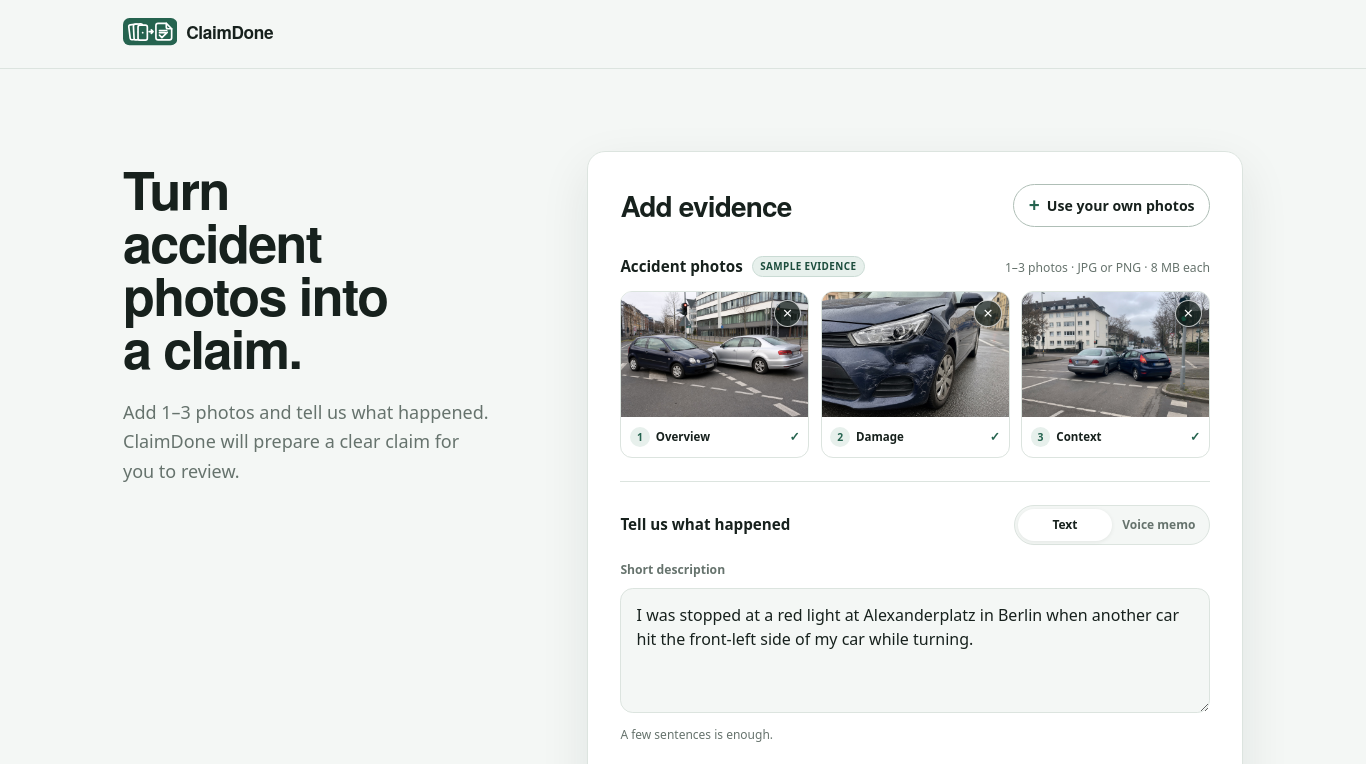
Scenario: ClaimExperience › shows a clear analysis error and preserves the evidence
Replace the text in the text box labelled "Short description" with "My saved description in Berlin.". click: (915, 651)
box: [620,588,1210,713]
(page scrolled)
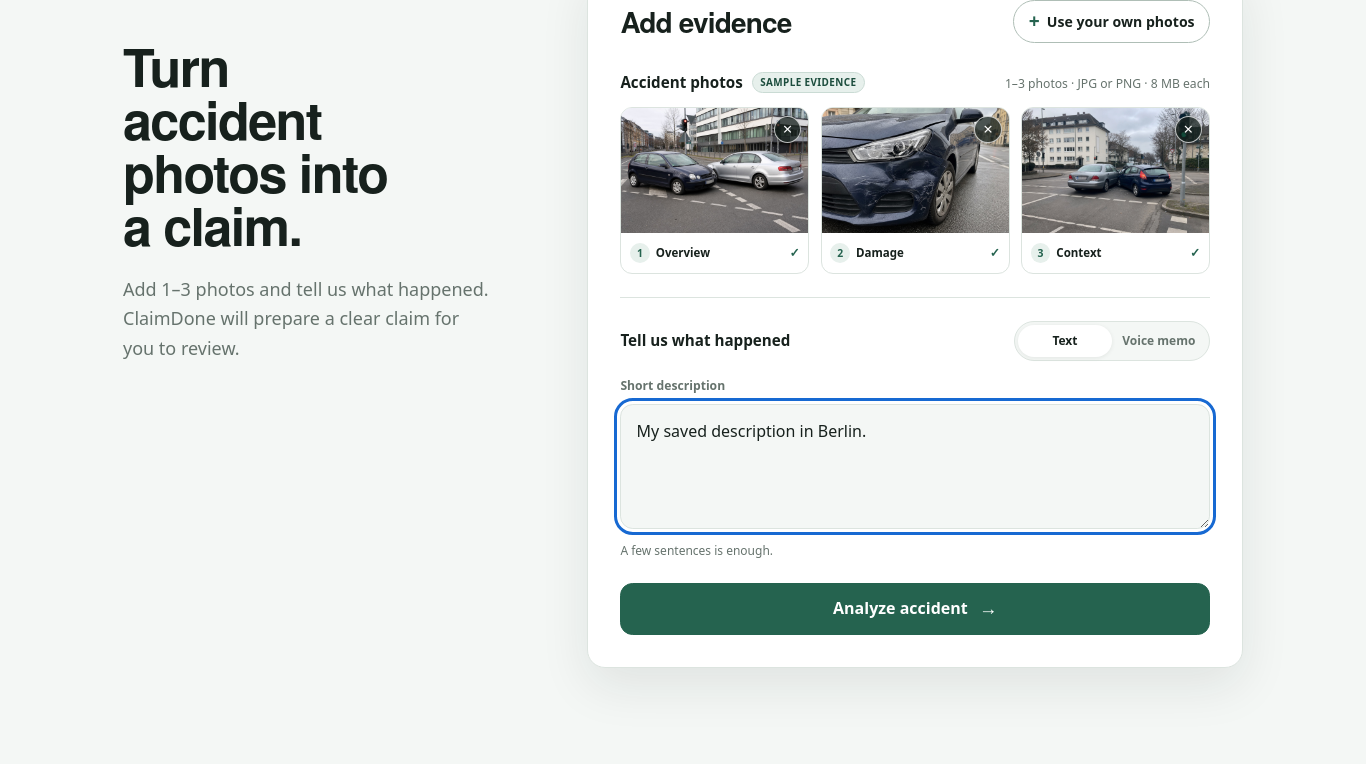
Click the button "Analyze accident →". click: (915, 608)
box: [620,582,1210,634]
(page scrolled)
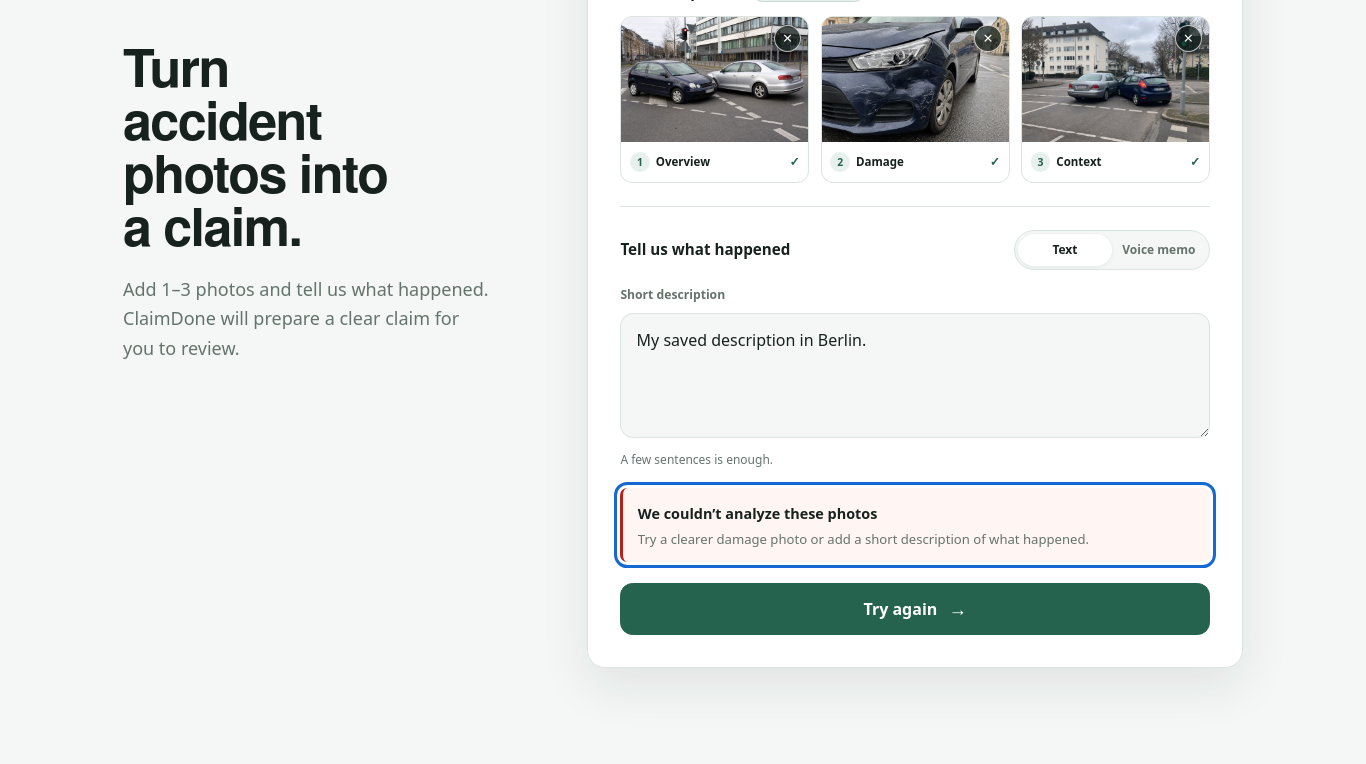
Check: the text box labelled "Short description" holds "My saved description in Berlin.", box [620,313,1210,438]
Check: the text "We couldn’t analyze these photos" is shown, box [638,504,877,523]
Check: the button "Try again →" is shown, box [620,583,1210,635]
